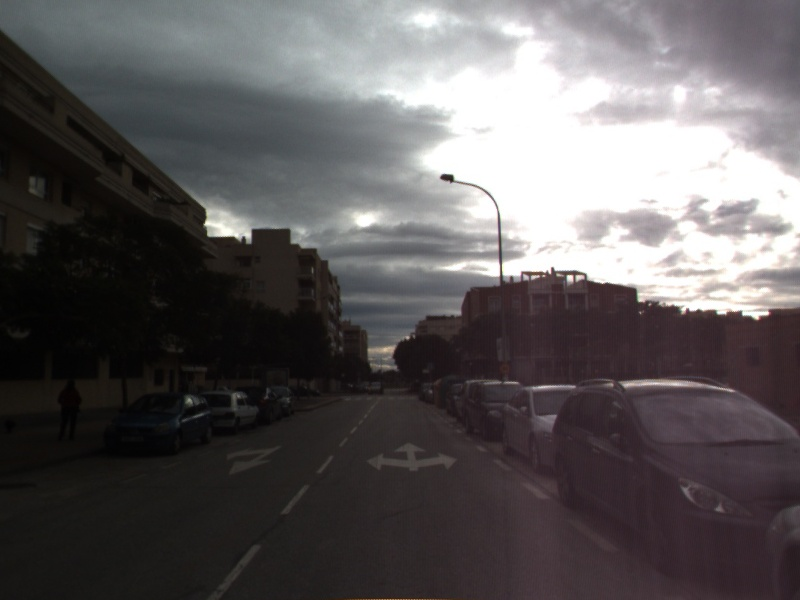STRAIGHT_LEFT_RIGHT: (364, 440, 460, 473)
